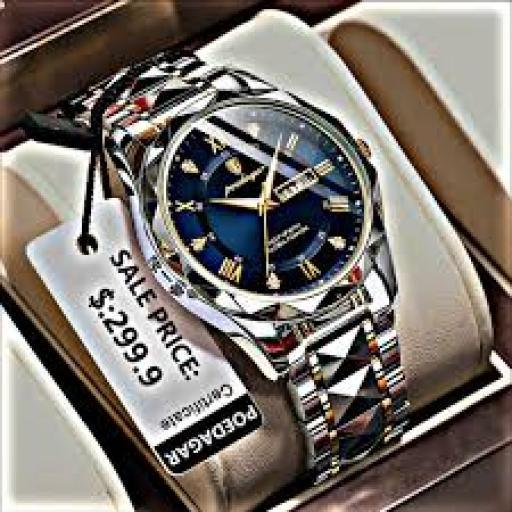KolSaati: (13, 31, 457, 482)
